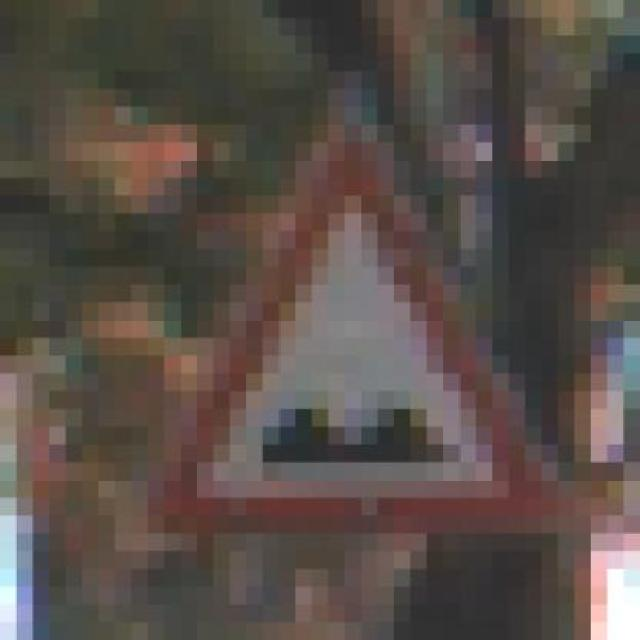Uneven Road: (114, 53, 592, 552)
